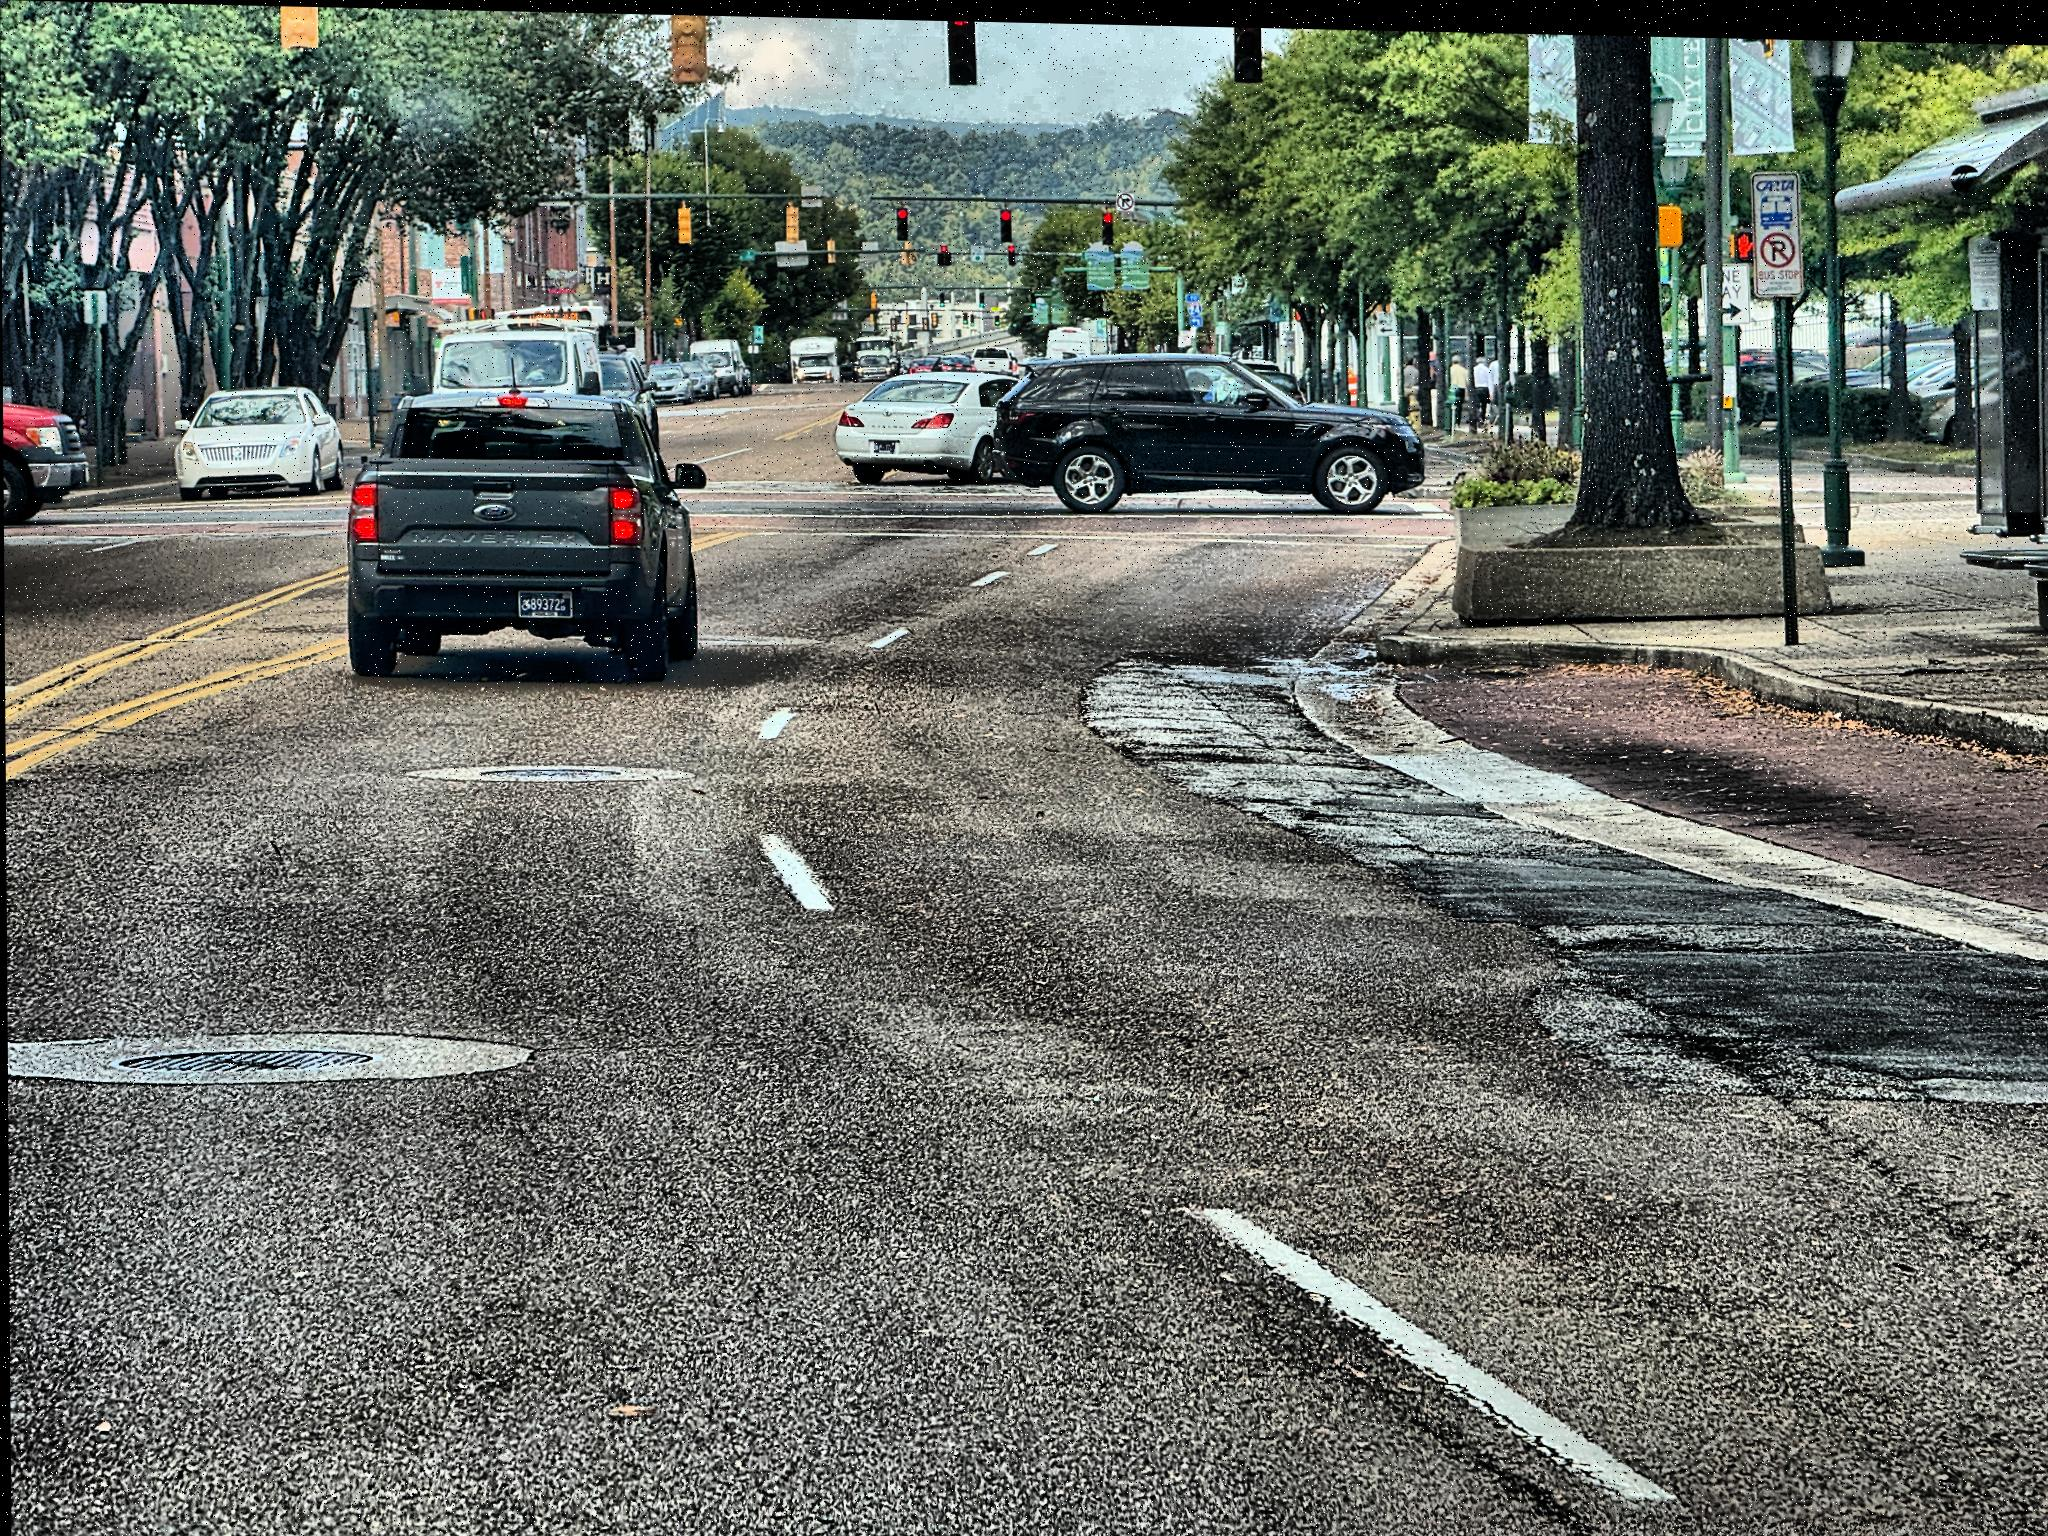pothole: (1551, 970, 1822, 1100), (1090, 608, 1284, 779), (1277, 787, 1566, 868), (1535, 895, 1721, 965)
